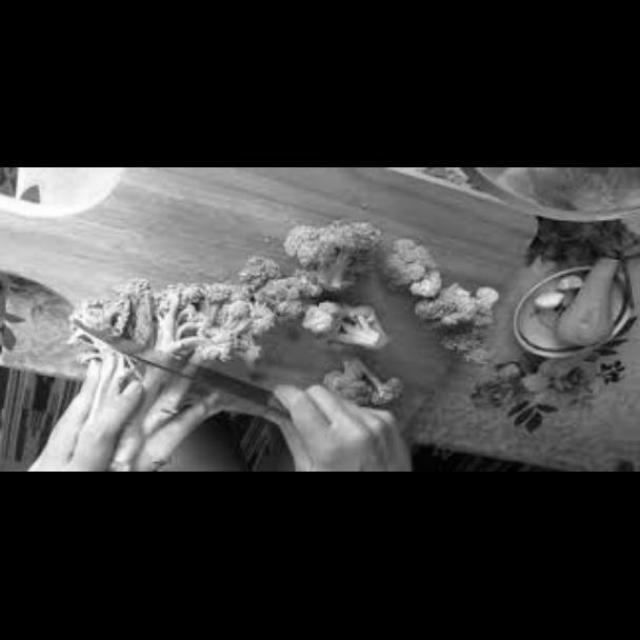bong cai xanh: (37, 265, 296, 402), (391, 250, 494, 372), (277, 221, 376, 297), (308, 286, 397, 366), (324, 368, 407, 436)
ca rot: (553, 252, 624, 352)
cu toi: (553, 270, 584, 296), (533, 290, 566, 312)
